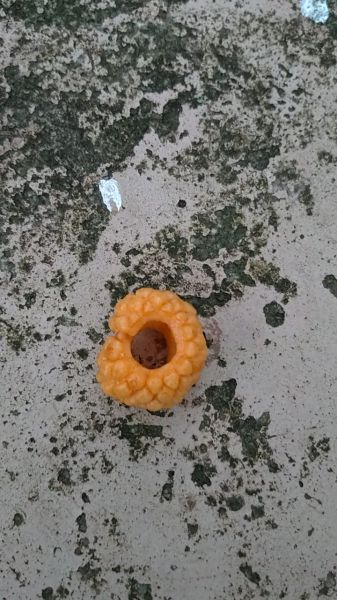eggs: (90, 278, 213, 416)
